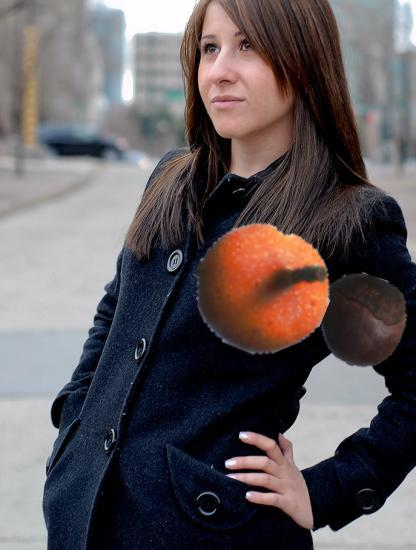Chestnut: (314, 274, 408, 368)
Granadilla: (194, 220, 330, 356)
